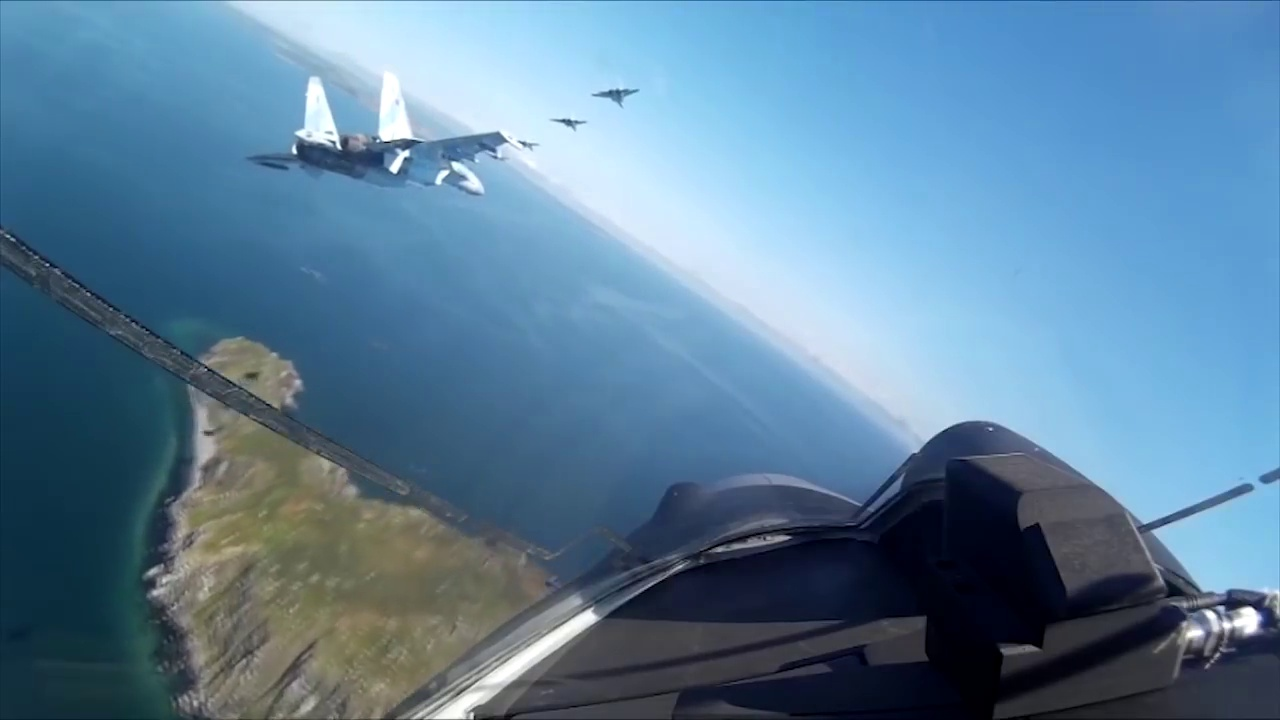Su35: (235, 68, 531, 205), (590, 76, 646, 113), (550, 105, 593, 136)
